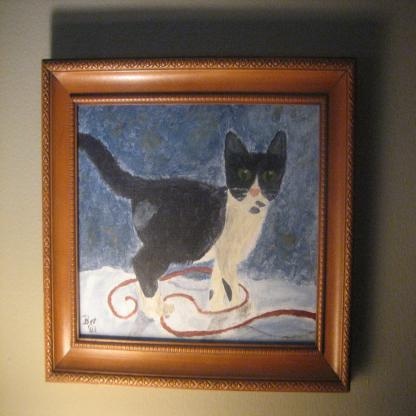Picture-frame: (41, 54, 361, 394)
